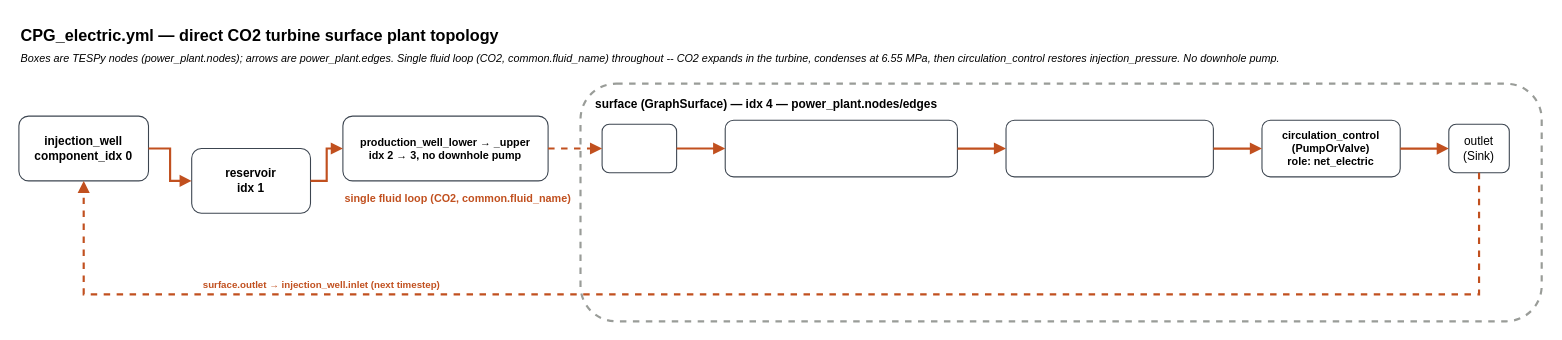
This 1562x340 diagram has some shape labels left out. Each missing label, with the centre of its shape:
"condenser (SimpleHeatExchanger) p_out=6.55 MPa, subcooling_K=3" goes at point (1109, 148).
"inlet (Source)" goes at point (639, 148).
"turbine (Turbine) role: net_electric, p_out=6.55 MPa" goes at point (840, 148).
